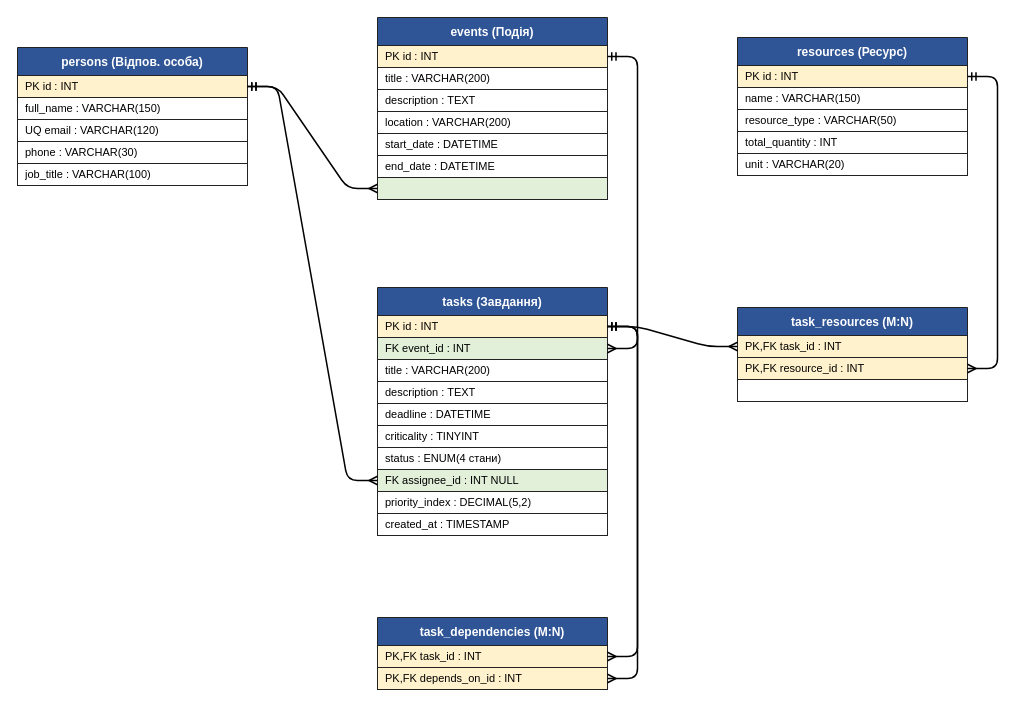
The diagram is 1025 pixels wide and 707 high, and some of its shapes have lost their labels. Here are the shapes that lost their labels. From the top down, the centre of each, then its label:
At (x=492, y=188): "FK organizer_id : INT".
At (x=852, y=390): "quantity_needed : INT".
